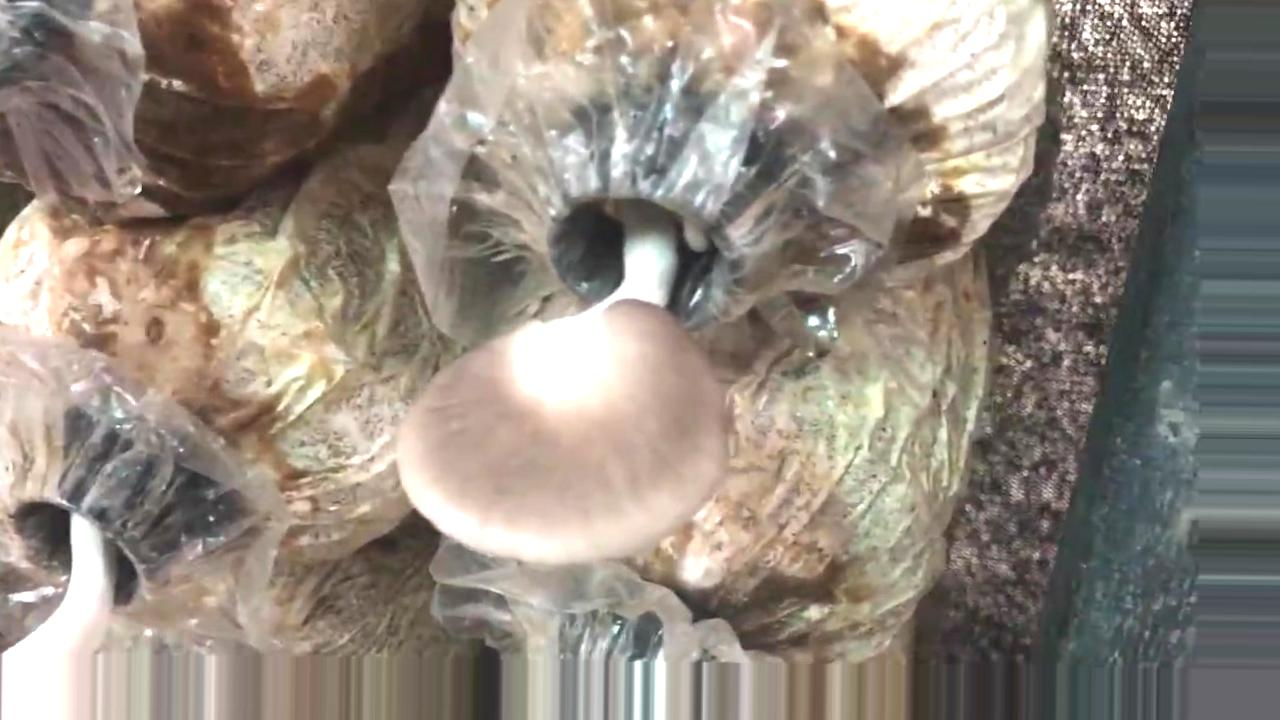nam: (392, 87, 799, 571)
